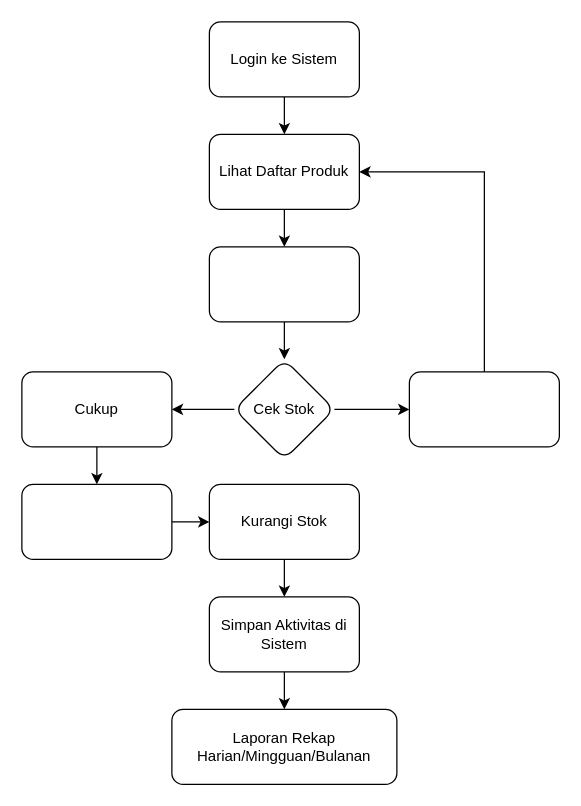
This 581x806 diagram has some shape labels left out. The shapes that lost their labels are listed below. From the top down, each one's box as (x1, y1, x2, y2) in pixels, then its label:
(208, 246, 359, 322): Pilih Produk
(408, 371, 559, 447): Tidak
(21, 483, 172, 559): Catat Transaksi Sebagai Aktivitas
